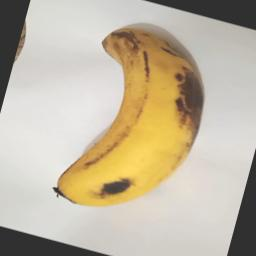Banana Unripe: (45, 15, 223, 228)
